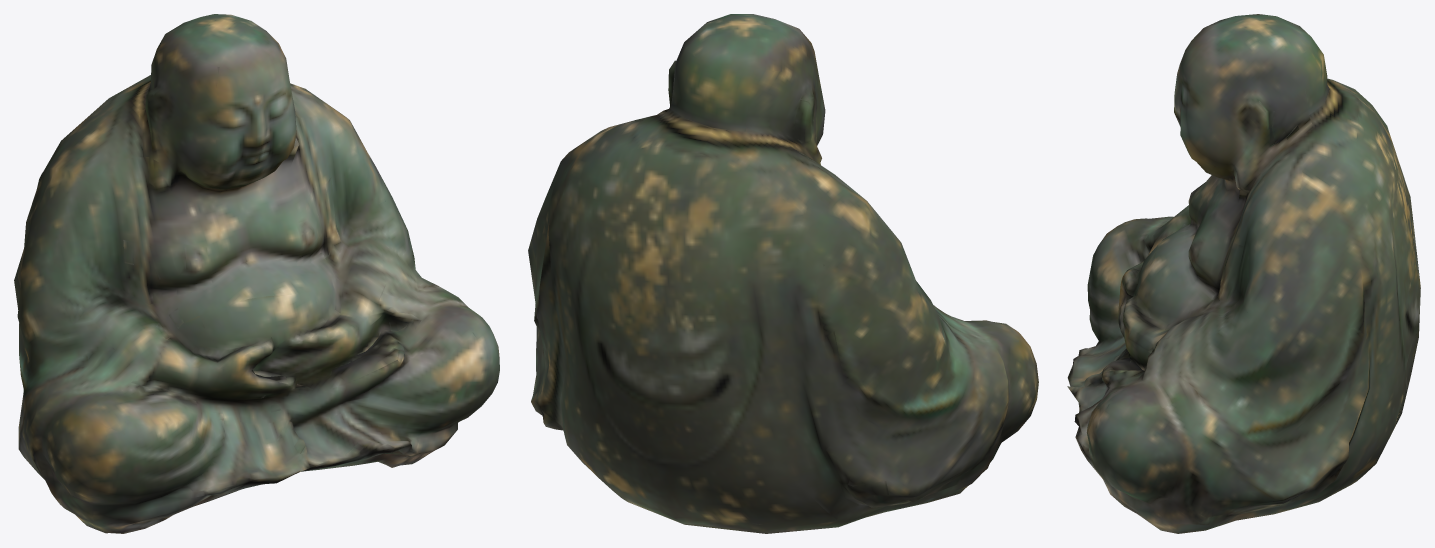
The model's file is buddha-statue.glb.
3 renders of one model, left to right at view 1: azimuth 30°, elevation 25°; view 2: azimuth 150°, elevation 25°; view 3: azimuth 270°, elevation 25°, orthographic. The views are drawn at different scales.
Parts seen in each view (by area): view 1: buddha-statue; view 2: buddha-statue; view 3: buddha-statue.
Part boxes in pixels (box(x1,y1,x2,y2)): buddha-statue: box(14, 14, 499, 533); buddha-statue: box(528, 14, 1038, 533); buddha-statue: box(1067, 14, 1420, 533).
Bounding box in the file's own units: 9.51 × 9.03 × 6.7.
Materials: 1 (1 with a texture image).
